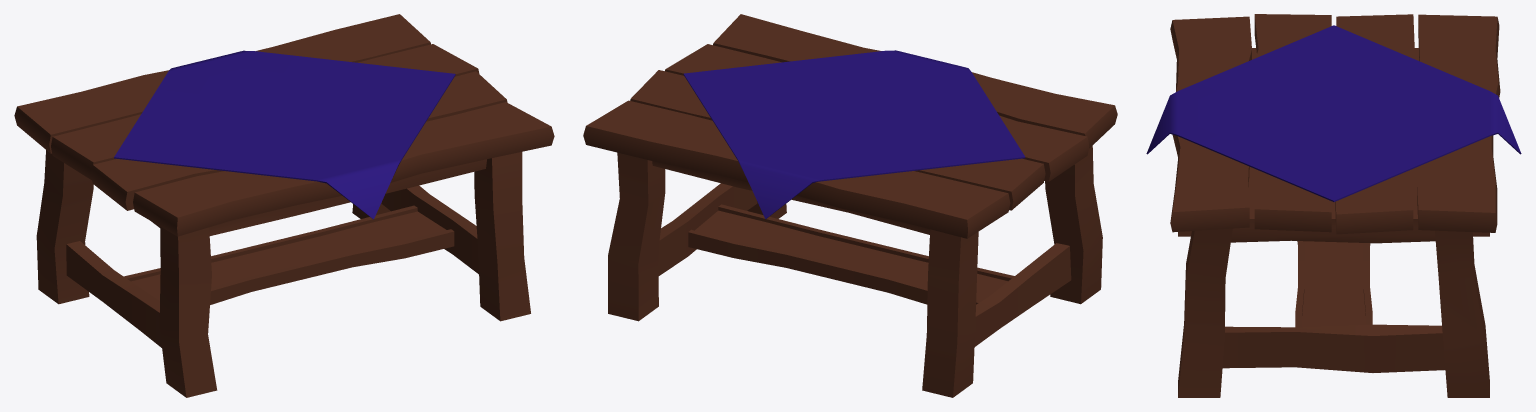
Rendered from WizardHubTable.fbx.
3 renders of one model, left to right at view 1: azimuth 30°, elevation 25°; view 2: azimuth 150°, elevation 25°; view 3: azimuth 270°, elevation 25°, orthographic. The views are drawn at different scales.
Visible parts, largest first — view 1: WizardHubTable; view 2: WizardHubTable; view 3: WizardHubTable.
Part boxes in pixels (x1,y1,x2,y2): WizardHubTable: (14, 14, 554, 397); WizardHubTable: (583, 14, 1117, 397); WizardHubTable: (1146, 14, 1521, 397).
Size of the model in its own units: 3.25 by 1.47 by 2.55.
